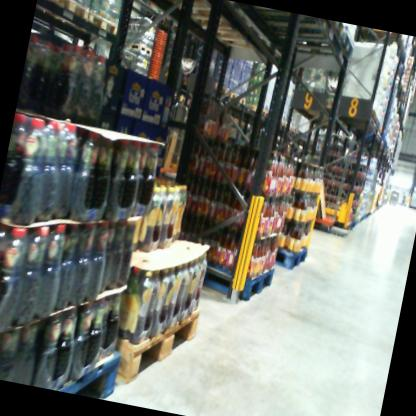pallet: (106, 281, 206, 401), (219, 9, 358, 81), (186, 250, 278, 313), (51, 338, 133, 403), (243, 7, 344, 42), (84, 7, 130, 43), (42, 0, 92, 32), (271, 241, 311, 273), (124, 40, 158, 61), (239, 102, 270, 117), (354, 107, 377, 124), (210, 80, 231, 98), (228, 86, 239, 104), (236, 94, 248, 106), (36, 0, 50, 8)
